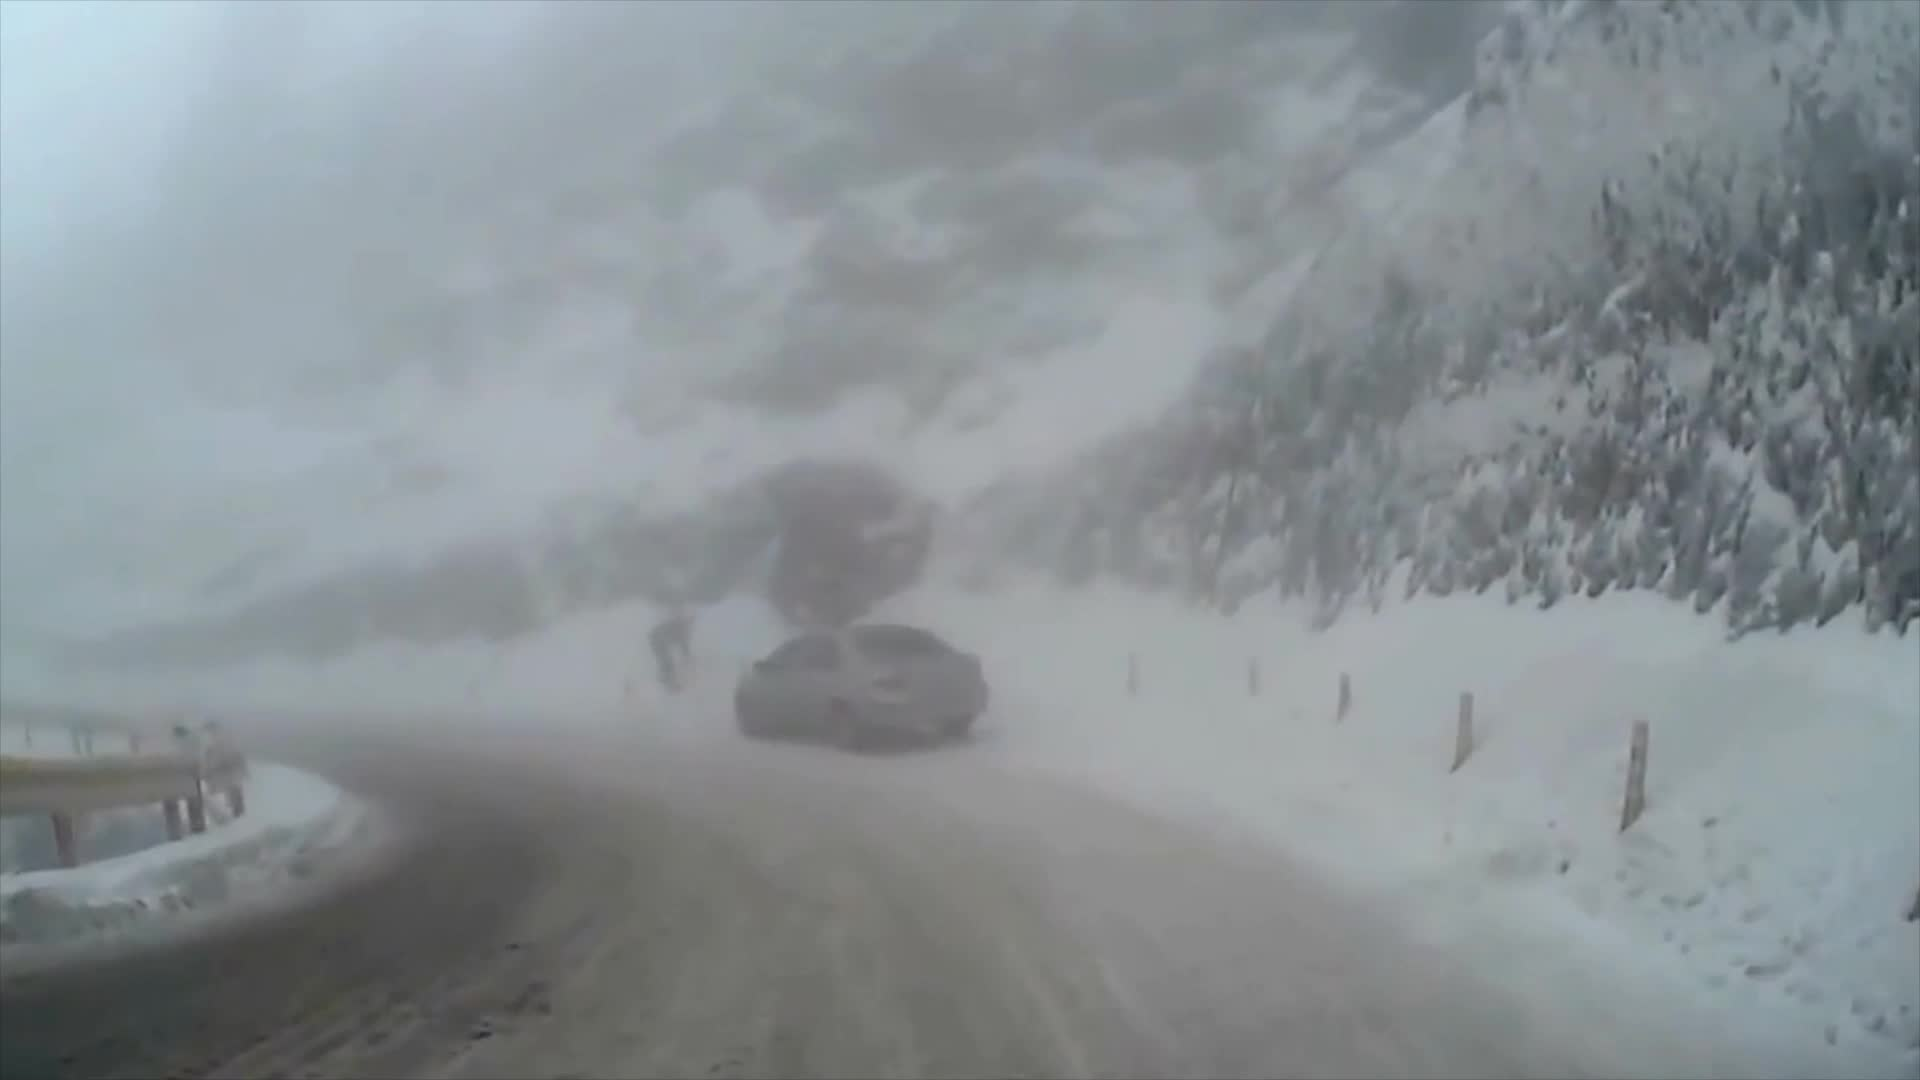pedestrian: (646, 612, 695, 692)
vehicle: (731, 622, 984, 749)
